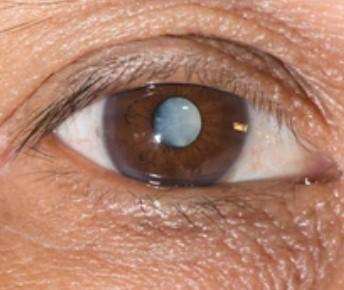eye: (104, 85, 250, 184)
